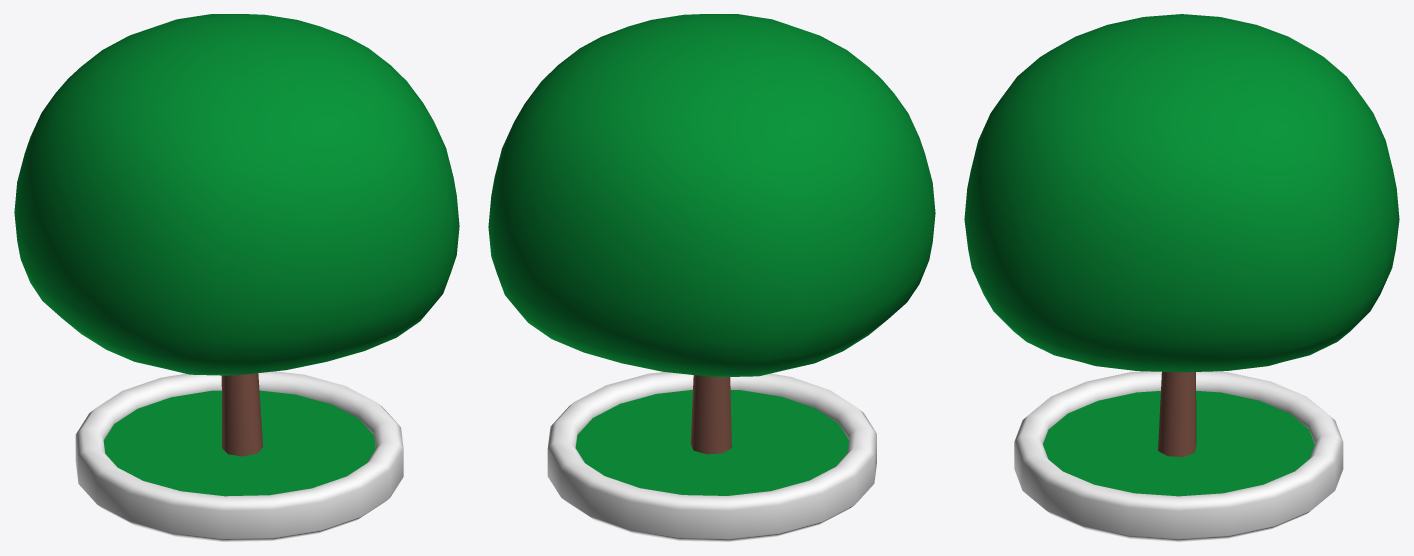
Rendered from Town_6_Tree_2.glb.
The picture shows the model from 3 angles, left to right: view 1: azimuth 30°, elevation 25°; view 2: azimuth 150°, elevation 25°; view 3: azimuth 270°, elevation 25°; orthographic projection.
Visible parts, largest first — view 1: Town_6_Tree_2; view 2: Town_6_Tree_2; view 3: Town_6_Tree_2.
Boxes of the visible parts, <box> form: Town_6_Tree_2: <box>14,14,459,541</box>; Town_6_Tree_2: <box>488,14,935,541</box>; Town_6_Tree_2: <box>964,14,1399,541</box>.
Bounding box in the file's own units: 1.66 × 1.82 × 1.66.
1 material, 1 textured.
